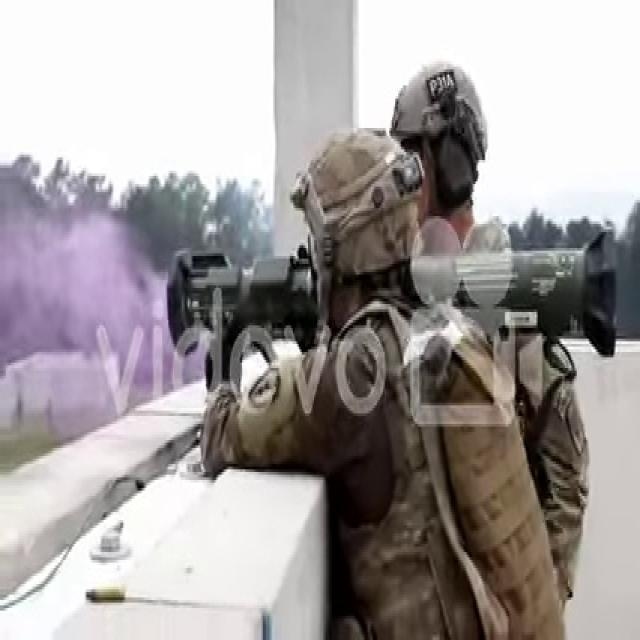bazooka: (161, 220, 623, 371)
